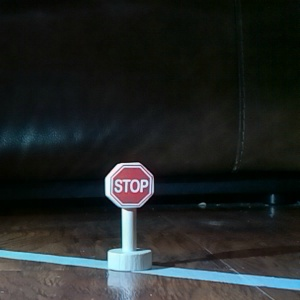stop sign: (100, 159, 157, 273)
